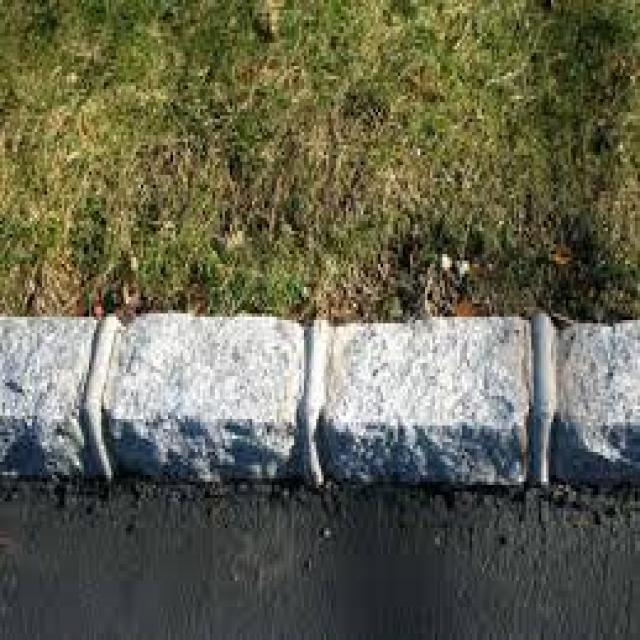bump: (0, 276, 640, 534)
